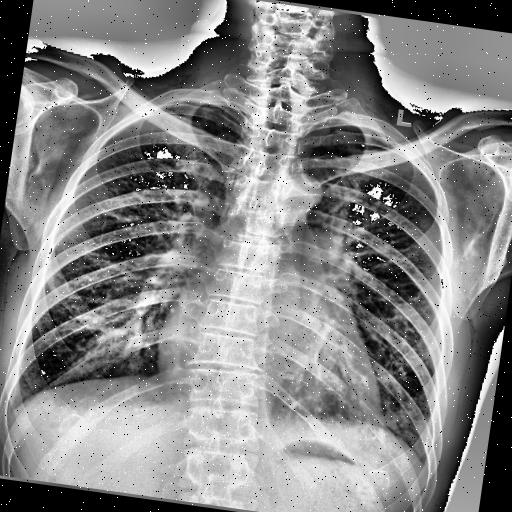10- Pleural effusion: (1, 388, 31, 424)
11- Pleural thickening: (1, 388, 31, 424)
3- Cardiomegaly: (149, 298, 397, 430), (146, 312, 392, 420)
